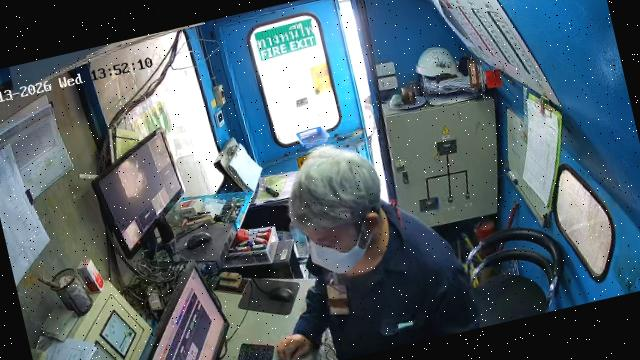Head: (289, 146, 383, 253)
People: (278, 149, 479, 359)
